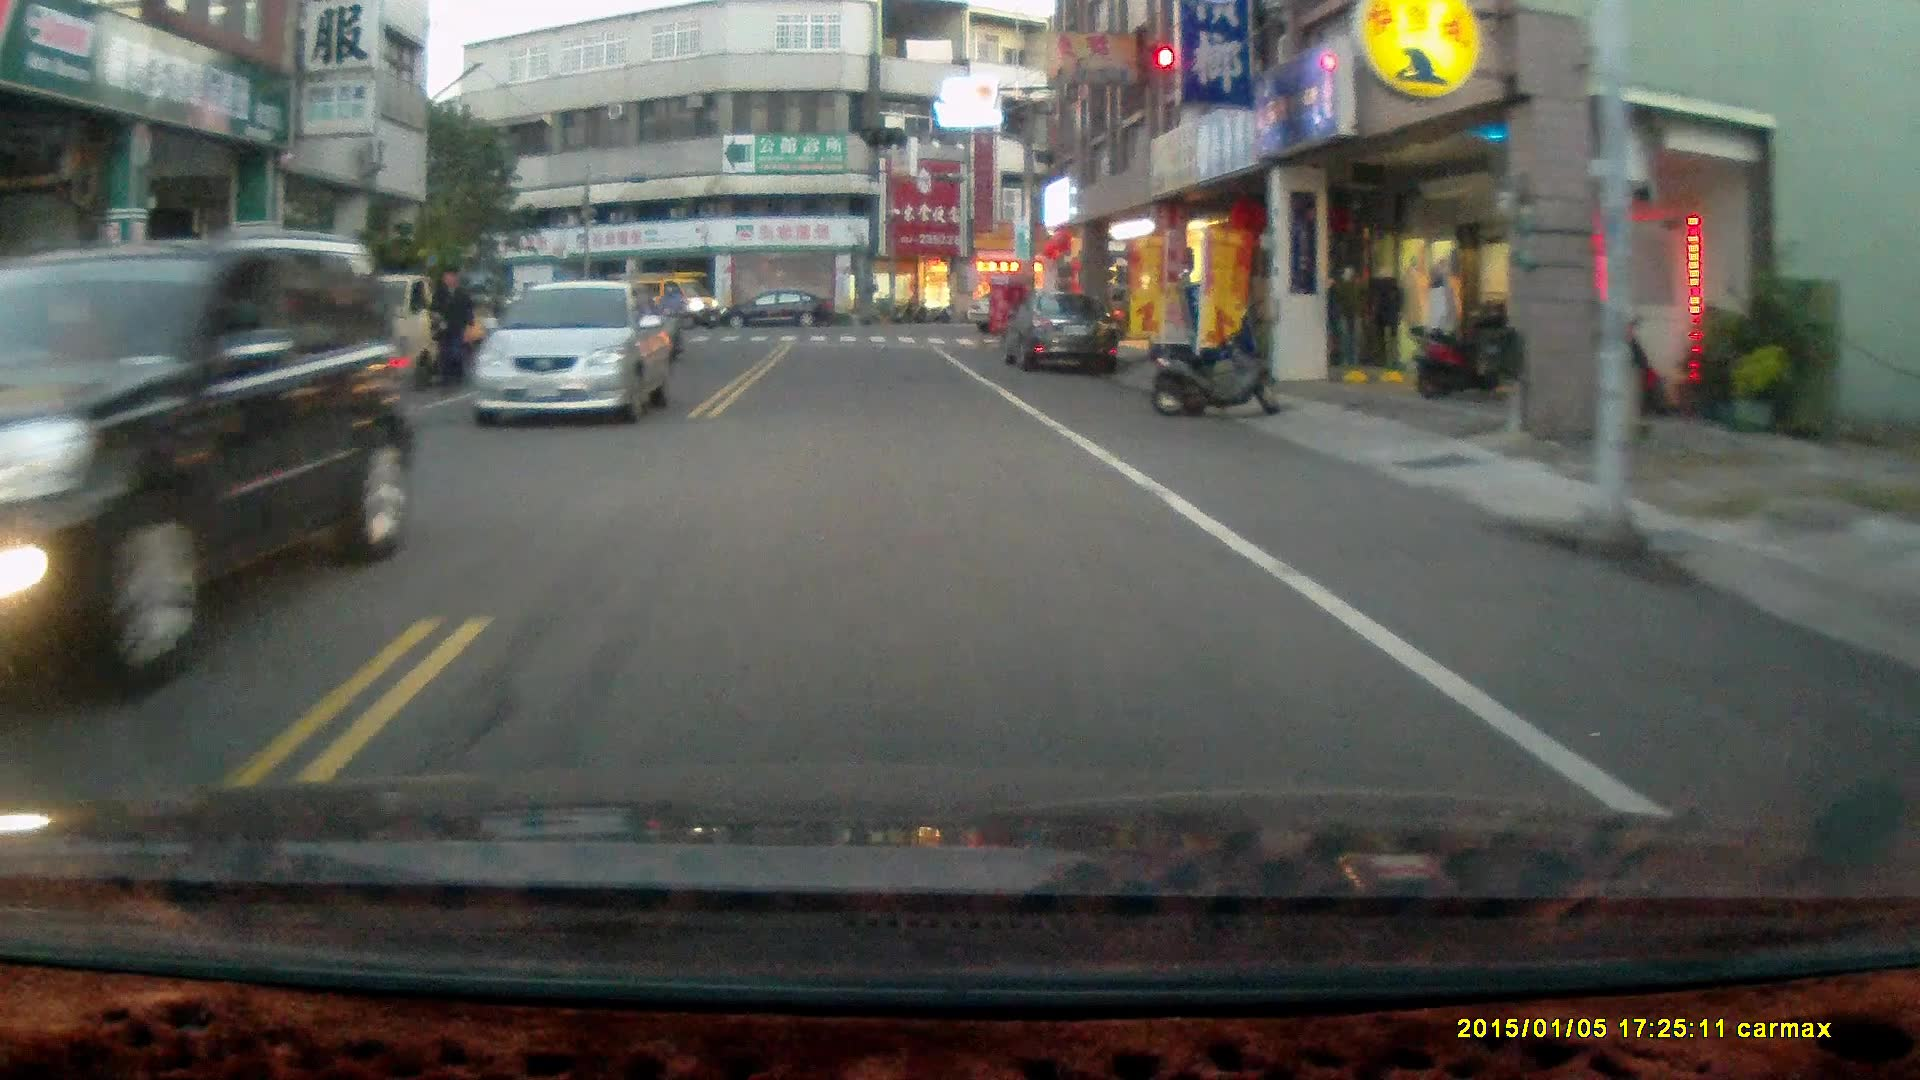pedestrian: (427, 261, 476, 393)
rider: (652, 280, 689, 371)
vehicle: (1, 236, 414, 706), (475, 281, 679, 429), (1001, 289, 1121, 380), (614, 275, 730, 336), (718, 290, 837, 335)
